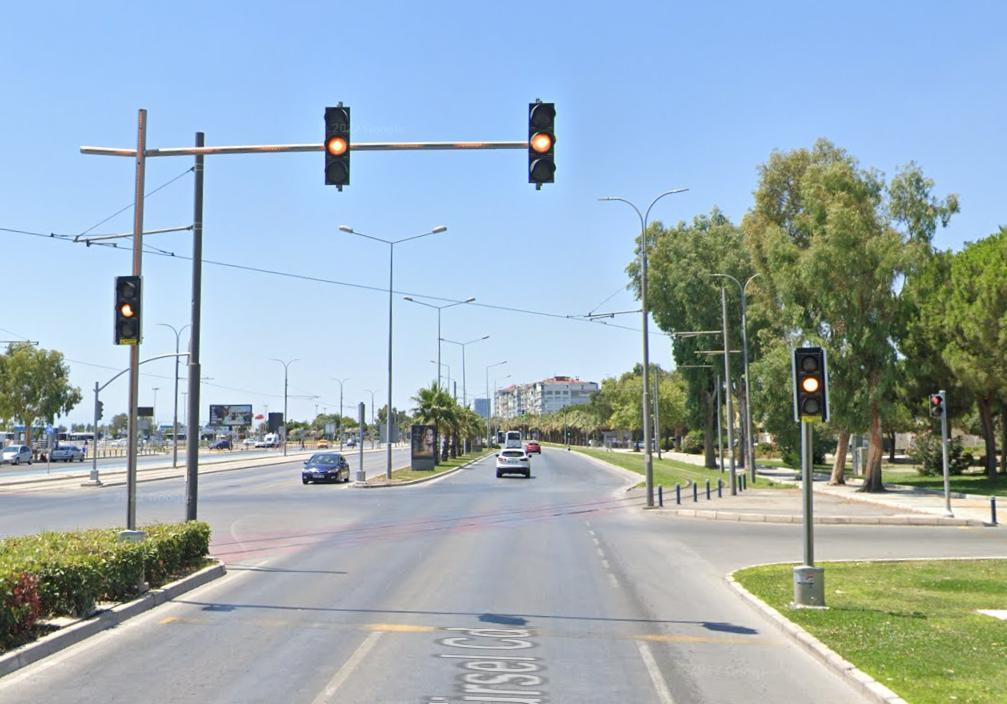yellowlight: (794, 345, 832, 423), (525, 101, 559, 186), (323, 105, 353, 186), (113, 273, 142, 346)
